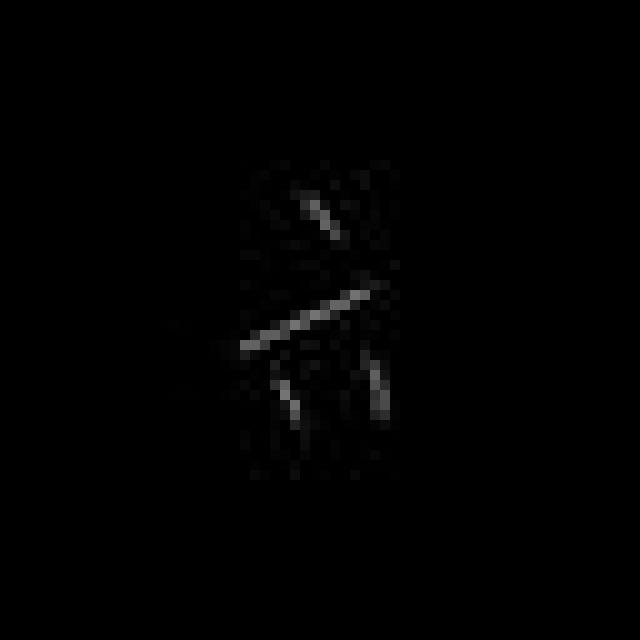6 -six-: (230, 194, 398, 438)
